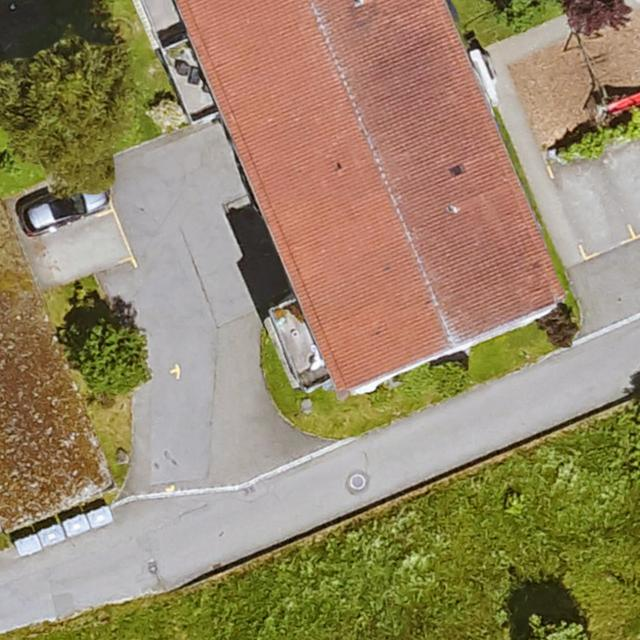tree: (6, 40, 130, 175), (80, 324, 151, 393), (566, 0, 623, 35), (527, 616, 596, 640), (539, 311, 579, 343)
